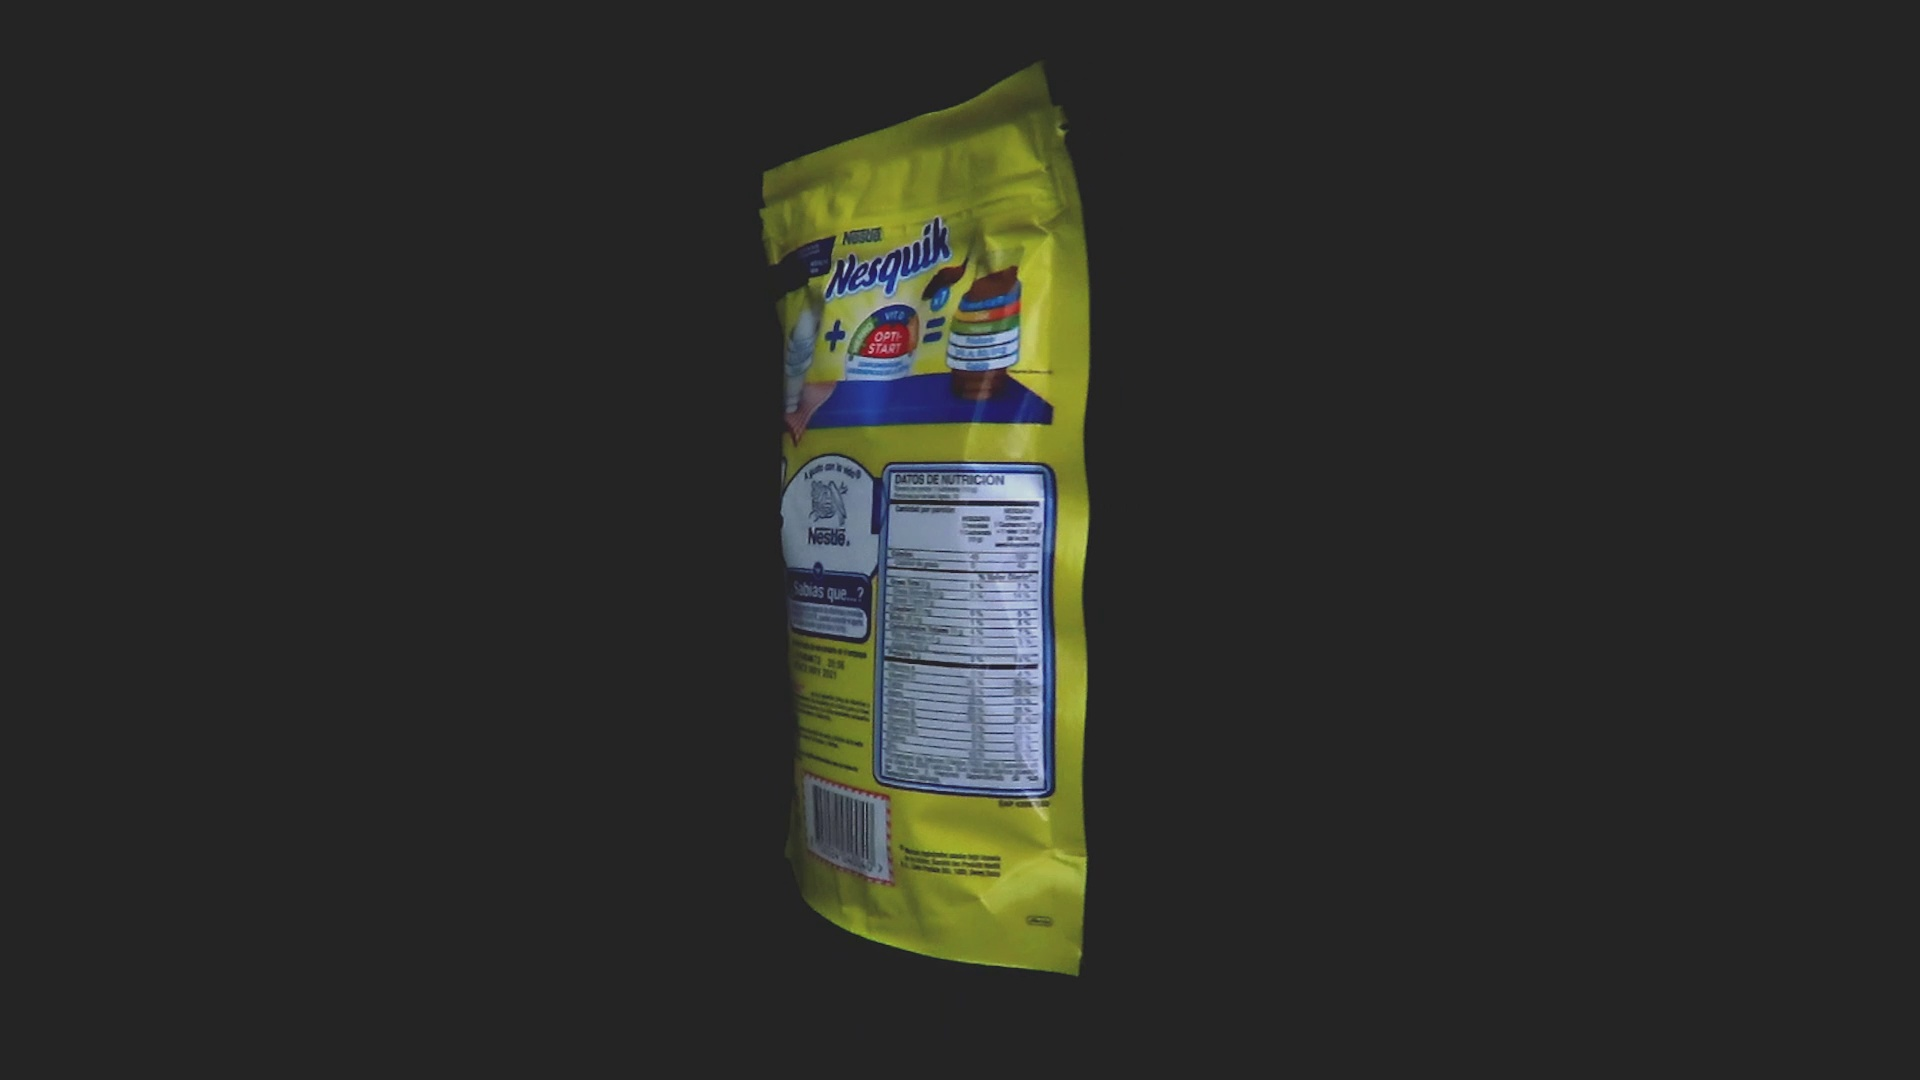COL0170303DYP20000: (754, 51, 1096, 982)
